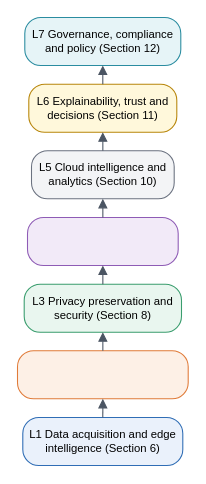
This 206x484 diagram has some shape labels left out. Here are the shapes that lost their labels. From the top down, the centre of each, then its label:
At (102,241): "L4 Federated analytics and learning (Section 9)".
At (102,374): "L2 Distributed data engineering (Section 7)".
